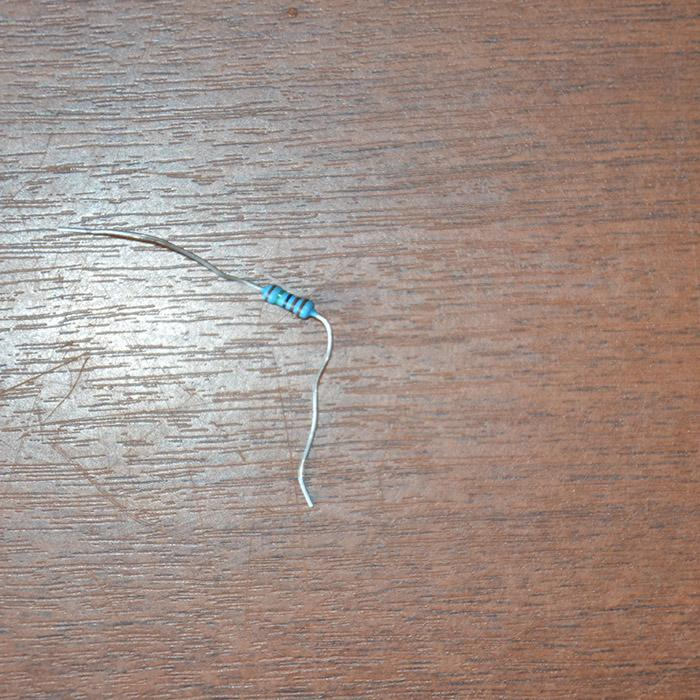resistor: (259, 284, 315, 319)
